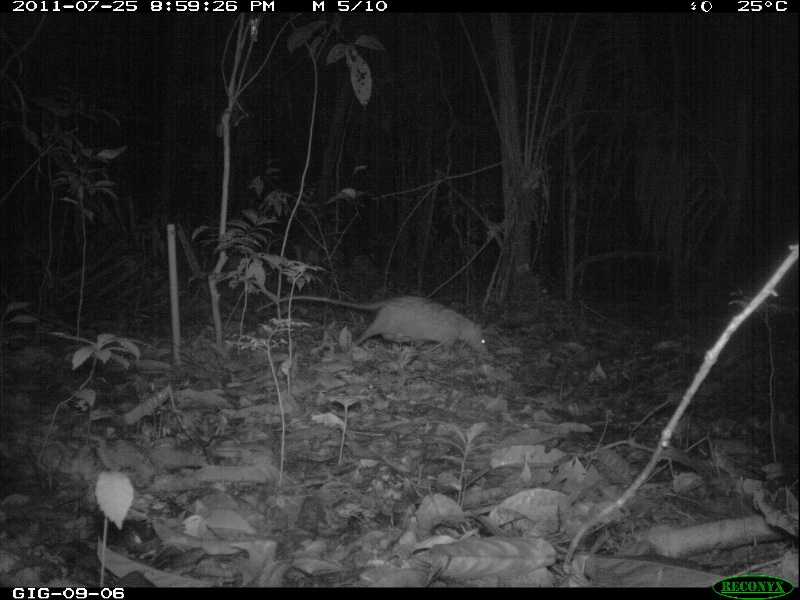opossum: (253, 291, 493, 353)
